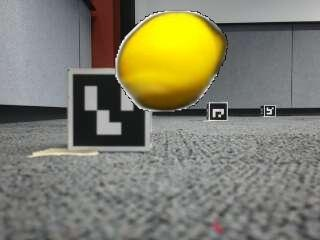lemon: (117, 12, 224, 108)
